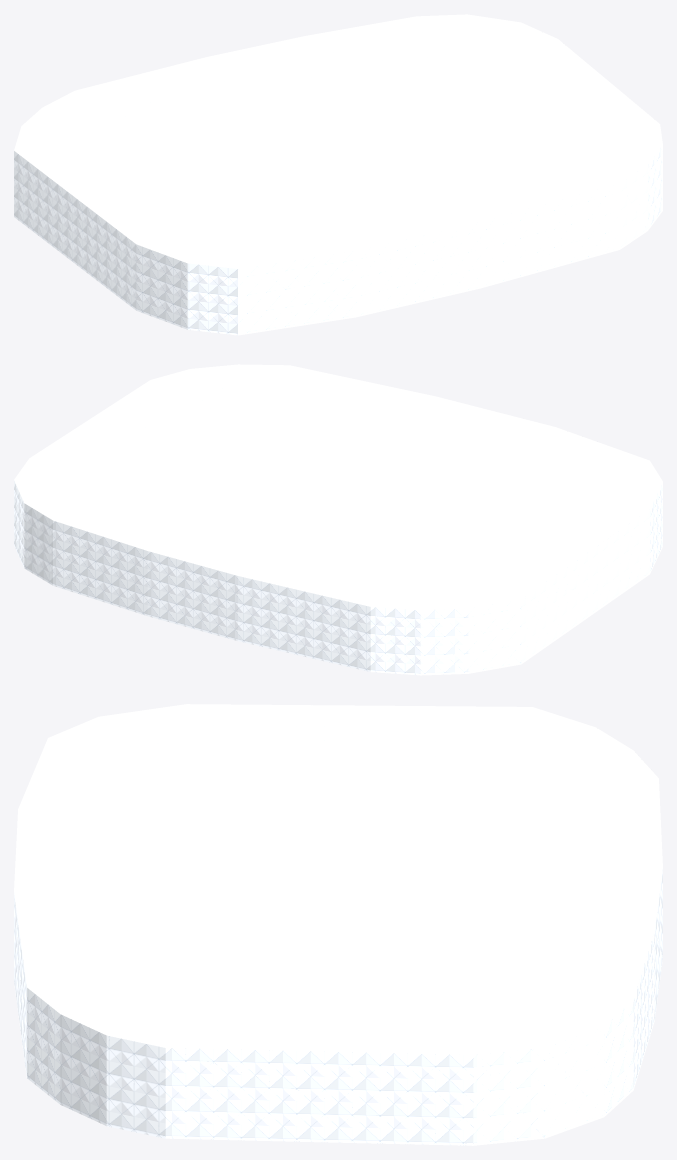
The model's file is landmark-crystal-hall.glb.
3 renders of one model, top to bottom at view 1: azimuth 30°, elevation 25°; view 2: azimuth 150°, elevation 25°; view 3: azimuth 270°, elevation 25°, orthographic. The views are drawn at different scales.
Parts seen in each view (by area): view 1: crystal-hall; view 2: crystal-hall; view 3: crystal-hall.
Boxes of the visible parts, x1=… form: crystal-hall: x1=14, y1=14, x2=662, y2=335; crystal-hall: x1=14, y1=364, x2=662, y2=675; crystal-hall: x1=14, y1=704, x2=662, y2=1145.
Size of the model in its own units: 179 by 27.61 by 140.
Materials: 1 (1 with a texture image).
